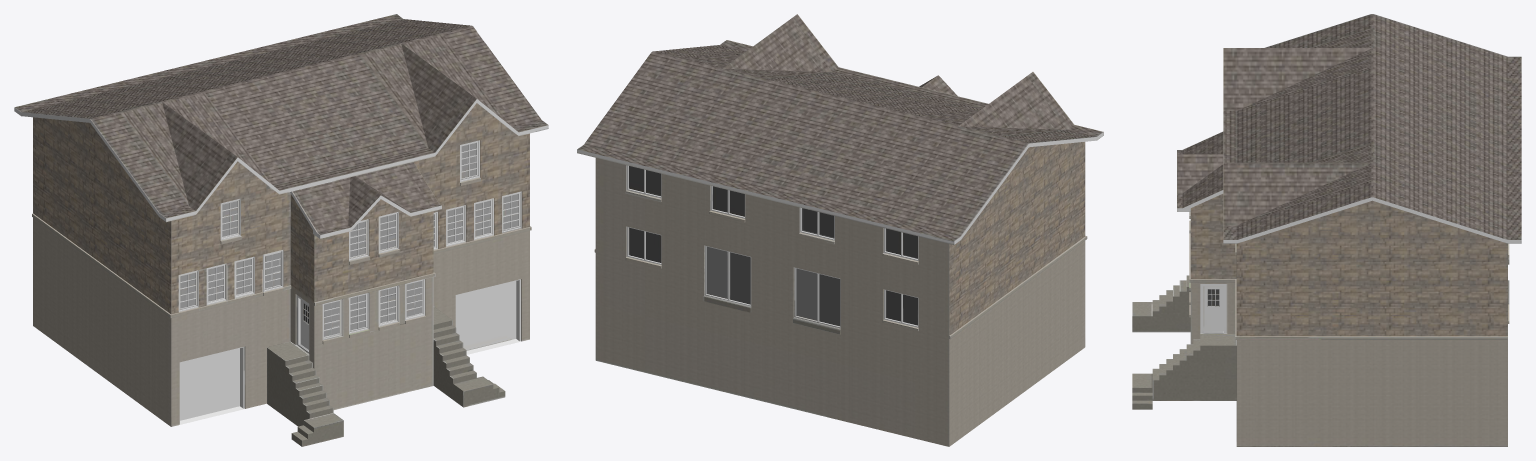
Rendered from Villar.fbx.
The picture shows the model from 3 angles, left to right: view 1: azimuth 30°, elevation 25°; view 2: azimuth 150°, elevation 25°; view 3: azimuth 270°, elevation 25°; orthographic projection.
Parts seen in each view (by area): view 1: Gravity_Optical_Inc_LOD0; view 2: Gravity_Optical_Inc_LOD0; view 3: Gravity_Optical_Inc_LOD0.
Part boxes in pixels (<box>): Gravity_Optical_Inc_LOD0: <box>14,14,548,446</box>; Gravity_Optical_Inc_LOD0: <box>577,14,1103,446</box>; Gravity_Optical_Inc_LOD0: <box>1132,14,1521,446</box>.
Size of what is drawn, in the model's own units: 1600 by 1040 by 1435.
Materials: 1 (1 with a texture image).
